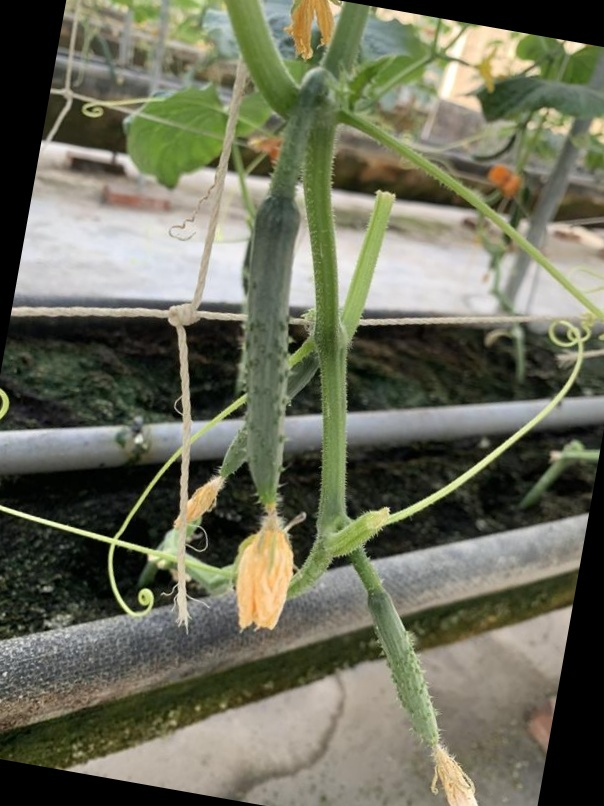bear: (351, 580, 576, 806)
growth: (231, 185, 306, 611)
